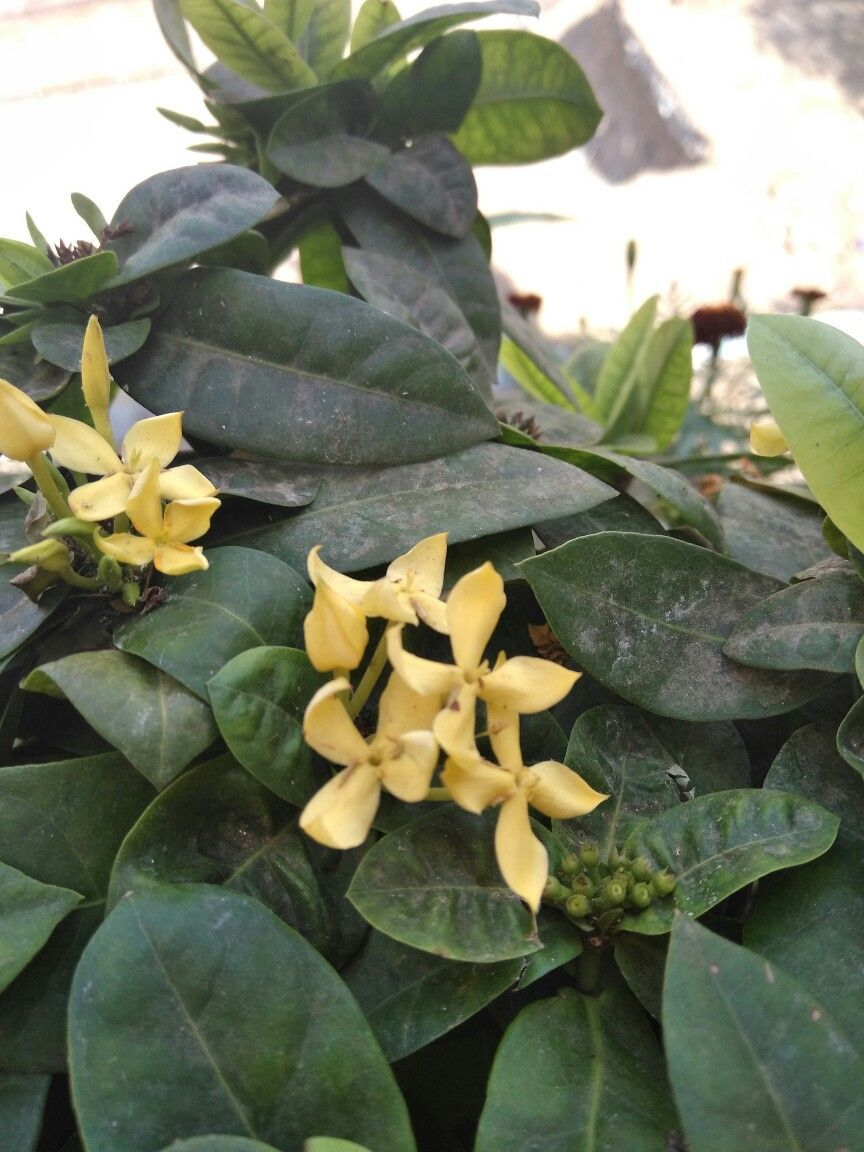ixora: (386, 568, 570, 752), (449, 716, 600, 909), (298, 681, 434, 842), (48, 414, 217, 514), (304, 543, 449, 635), (106, 467, 217, 574)
